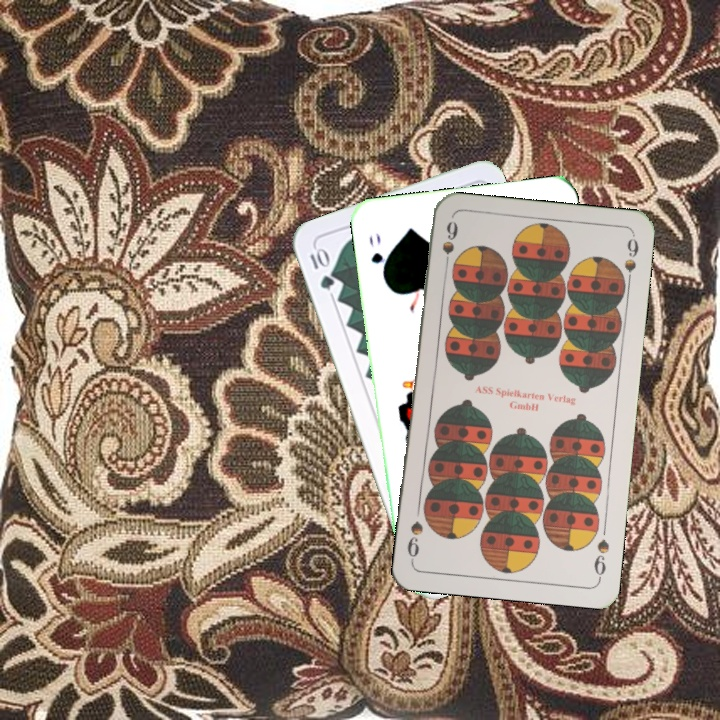G10: (305, 244, 337, 293)
GO: (365, 228, 390, 281)
S9: (438, 217, 460, 276), (589, 535, 612, 583)
